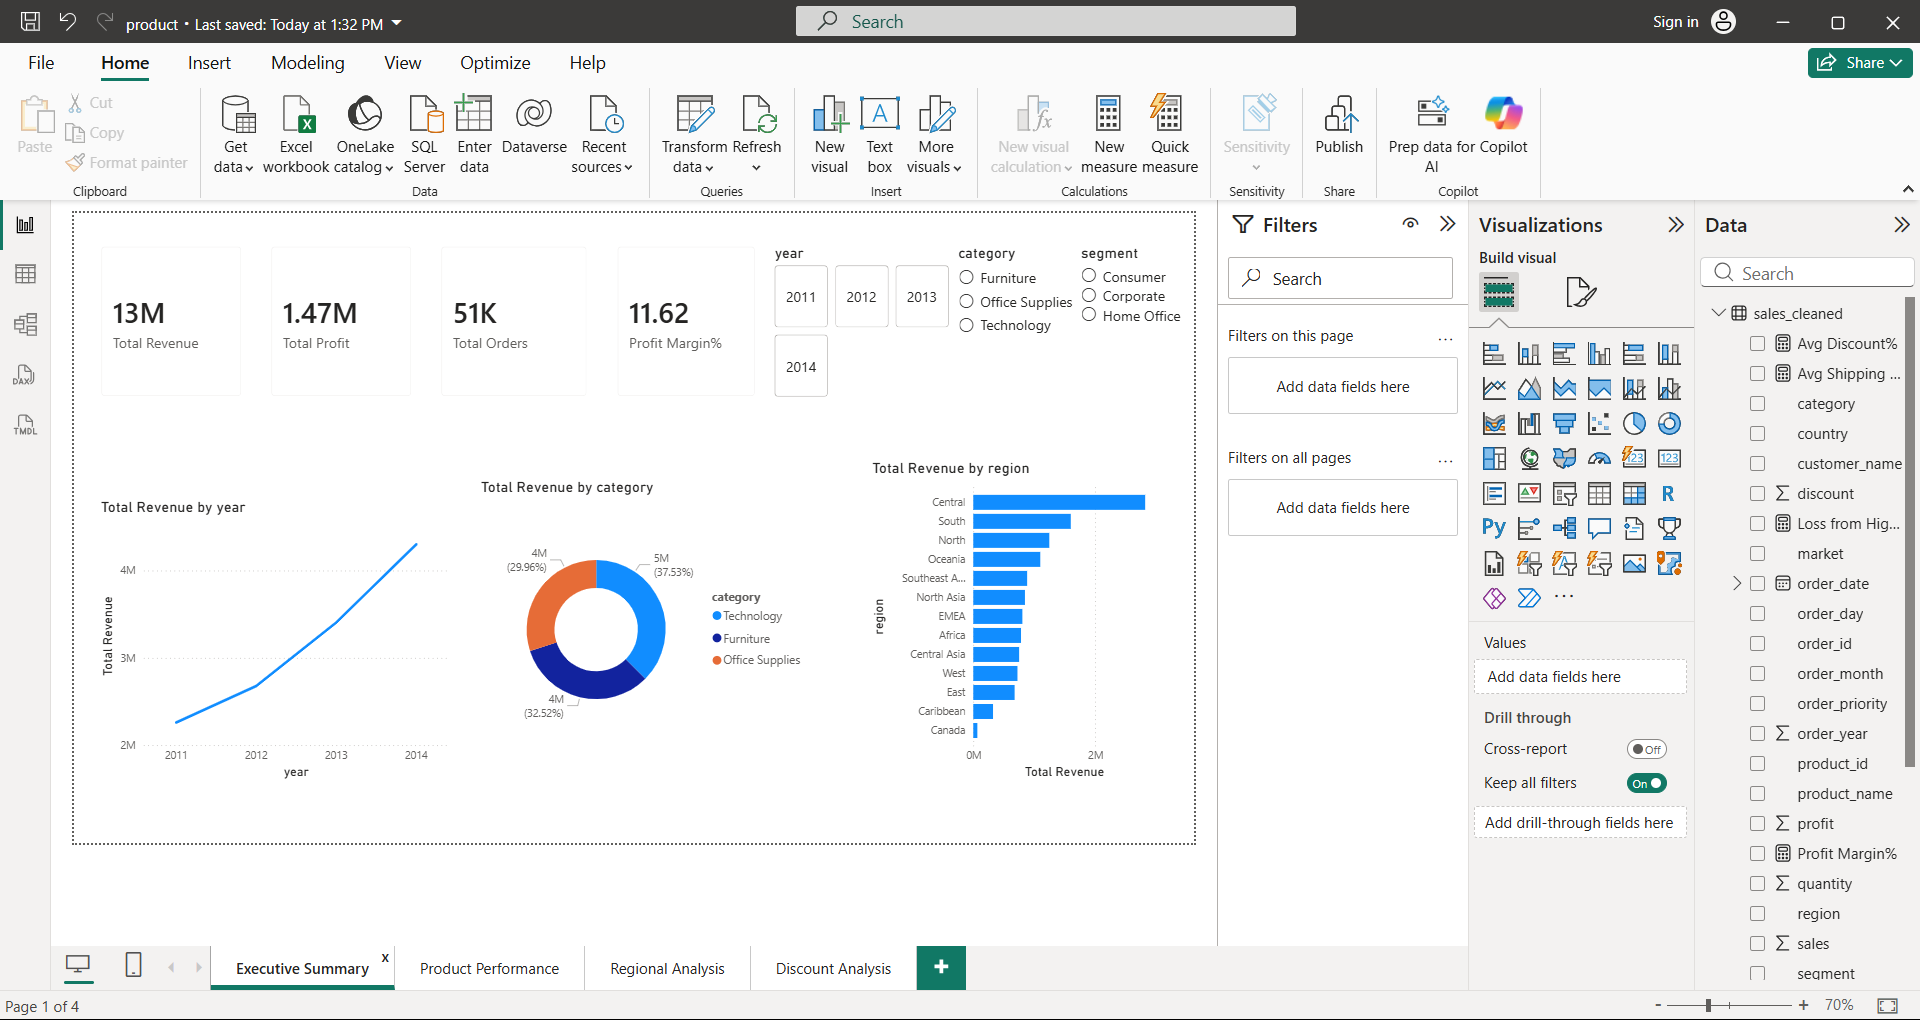

This screenshot's page, from the dashboard's own definition file:
{"tool":"powerbi","page":{"name":"Executive Summary","canvas":[1280,720],"ordinal":0},"visuals":[{"type":"cardVisual","fields":{"Data":["sales_cleaned.Total Revenue"]},"box":[14.7,20.8,194.4,205.4],"z":0},{"type":"cardVisual","fields":{"Data":["sales_cleaned.Total Profit"]},"box":[209.1,20.8,194.4,205.4],"z":1000},{"type":"cardVisual","fields":{"Data":["sales_cleaned.Total Orders"]},"box":[403.5,20.8,200.5,205.4],"z":2000},{"type":"cardVisual","fields":{"Data":["sales_cleaned.Profit Margin%"]},"box":[604.1,20.8,192,205.4],"z":3000},{"type":"lineChart","fields":{"Y":["sales_cleaned.Total Revenue"],"Category":["sales_cleaned.year"]},"box":[25.7,325.3,407.2,326.5],"z":4000},{"type":"donutChart","fields":{"Category":["sales_cleaned.category"],"Y":["sales_cleaned.Total Revenue"]},"box":[459.8,303.3,384,327.7],"z":4001},{"type":"barChart","fields":{"Category":["sales_cleaned.region"],"Y":["sales_cleaned.Total Revenue"]},"box":[907.3,281.3,343.6,370.5],"z":4002},{"type":"advancedSlicerVisual","fields":{"Values":["sales_cleaned.year"]},"box":[796.1,35.5,209.1,181],"z":4003},{"type":"listSlicer","fields":{"Values":["sales_cleaned.category"]},"box":[1005.2,35.5,148,245.8],"z":4004},{"type":"listSlicer","fields":{"Values":["sales_cleaned.segment"]},"box":[1145.8,35.5,134.5,212.8],"z":4005}]}

Visuals, with their boxes on the page's 1280x720 design canvas (x1, y1, x2, y2). These are canvas units, not pixel positions in the 1920x1020 screenshot, which may show the page scaled, cropped or inside an application window:
cardVisual - sales_cleaned.Total Revenue: detection(15, 21, 209, 226)
cardVisual - sales_cleaned.Total Profit: detection(209, 21, 404, 226)
cardVisual - sales_cleaned.Total Orders: detection(404, 21, 604, 226)
cardVisual - sales_cleaned.Profit Margin%: detection(604, 21, 796, 226)
lineChart - sales_cleaned.Total Revenue x sales_cleaned.year: detection(26, 325, 433, 652)
donutChart - sales_cleaned.category x sales_cleaned.Total Revenue: detection(460, 303, 844, 631)
barChart - sales_cleaned.region x sales_cleaned.Total Revenue: detection(907, 281, 1251, 652)
advancedSlicerVisual - sales_cleaned.year: detection(796, 36, 1005, 216)
listSlicer - sales_cleaned.category: detection(1005, 36, 1153, 281)
listSlicer - sales_cleaned.segment: detection(1146, 36, 1280, 248)
